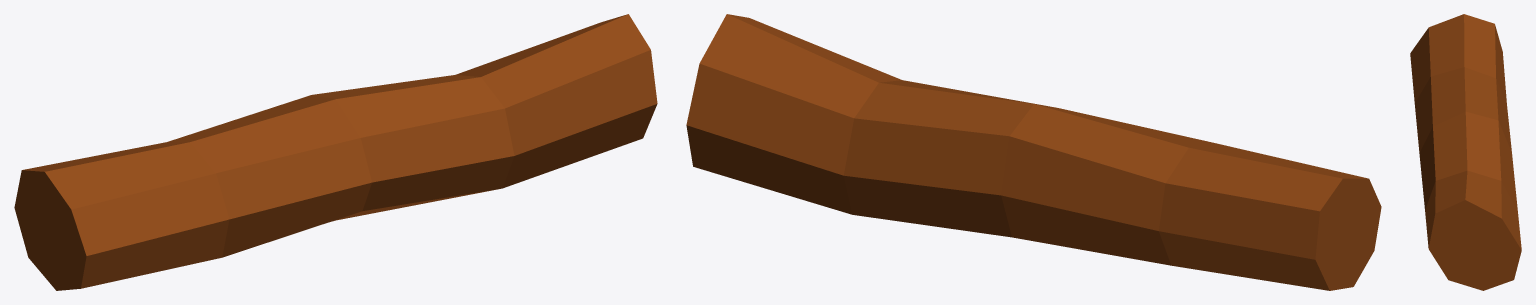
Rendered from LowPolyLog.fbx.
3 views of the same model, side by side, from view 1: azimuth 30°, elevation 25°; view 2: azimuth 150°, elevation 25°; view 3: azimuth 270°, elevation 25° (orthographic). The views are drawn at different scales.
Visible parts, largest first — view 1: log02; view 2: log02; view 3: log02.
Part boxes in pixels (x1,y1,x2,y2): log02: (14,14,657,290); log02: (686,14,1381,290); log02: (1410,14,1521,290).
Bounding box in the file's own units: 302 × 72.4 × 72.26.
